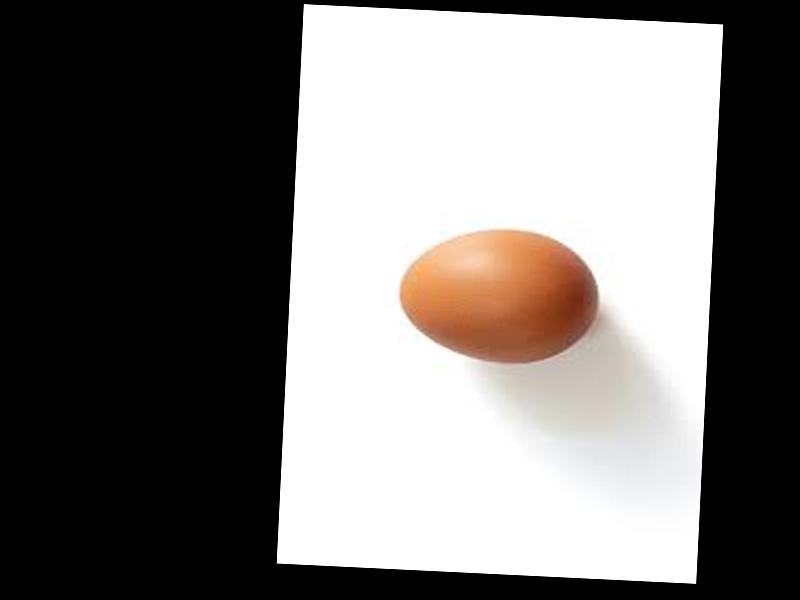Eggs: (395, 226, 600, 366)
